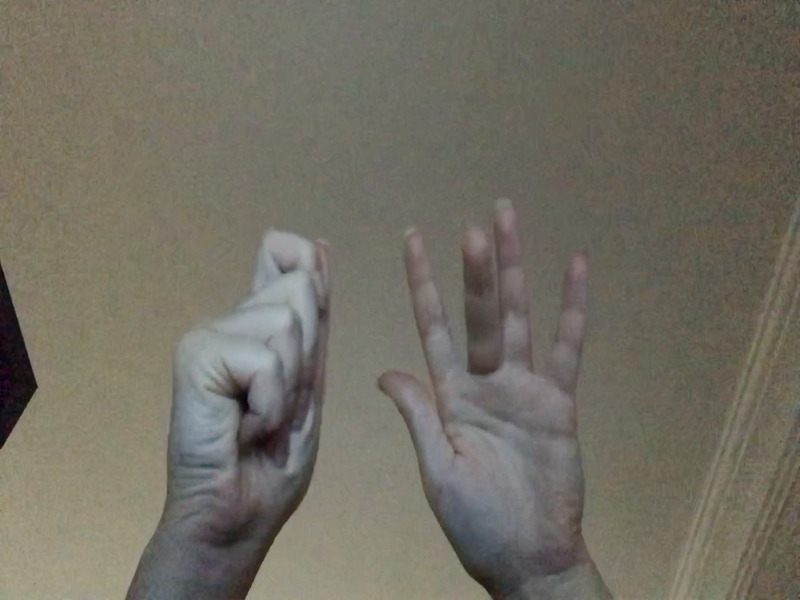hand: (376, 199, 605, 555), (163, 227, 337, 540)
